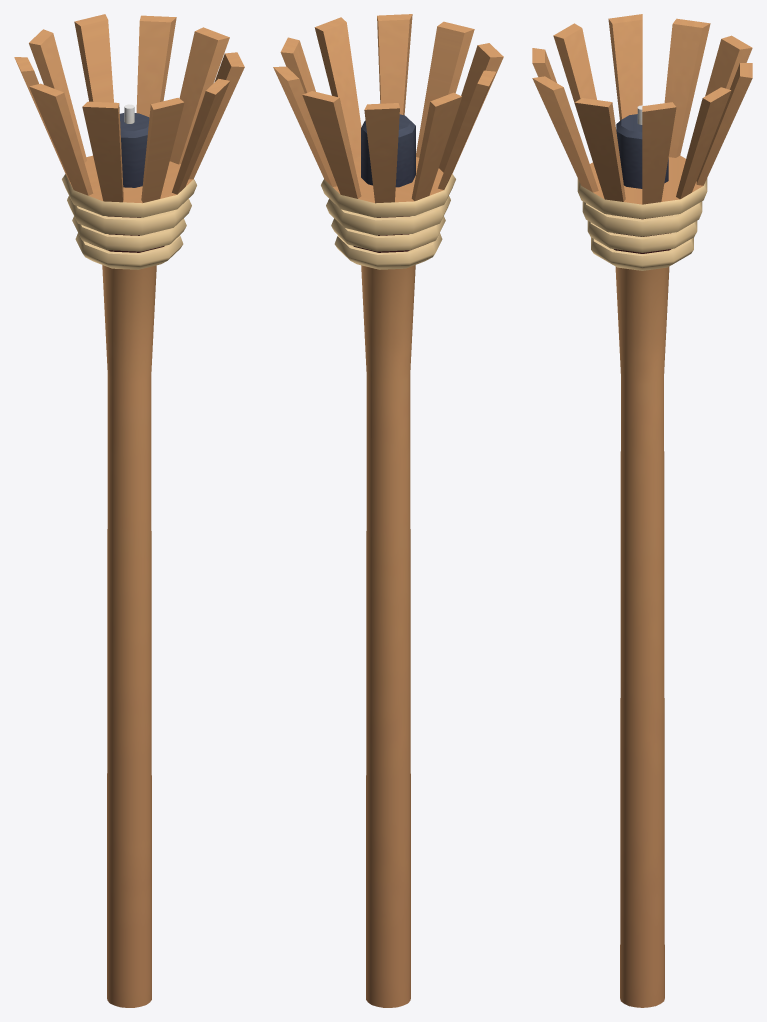
Rendered from Torch.fbx.
3 renders of one model, left to right at view 1: azimuth 30°, elevation 25°; view 2: azimuth 150°, elevation 25°; view 3: azimuth 270°, elevation 25°, orthographic.
Visible parts, largest first — view 1: Torch; view 2: Torch; view 3: Torch.
Boxes of the visible parts, left/top/right/bottom form: Torch: left=14, top=14, right=244, bottom=1007; Torch: left=273, top=14, right=503, bottom=1007; Torch: left=532, top=14, right=752, bottom=1007.
Size of the model in its own units: 1.28 by 5.68 by 1.21.
